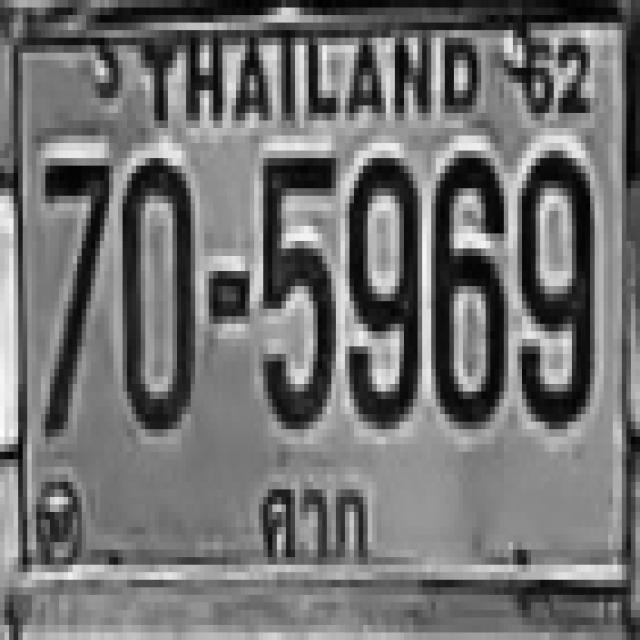0: (118, 151, 191, 429)
5: (259, 150, 331, 422)
6: (431, 147, 504, 425)
7: (41, 154, 109, 433)
9: (518, 143, 590, 422), (345, 150, 418, 422)
Tak: (255, 462, 382, 588)
